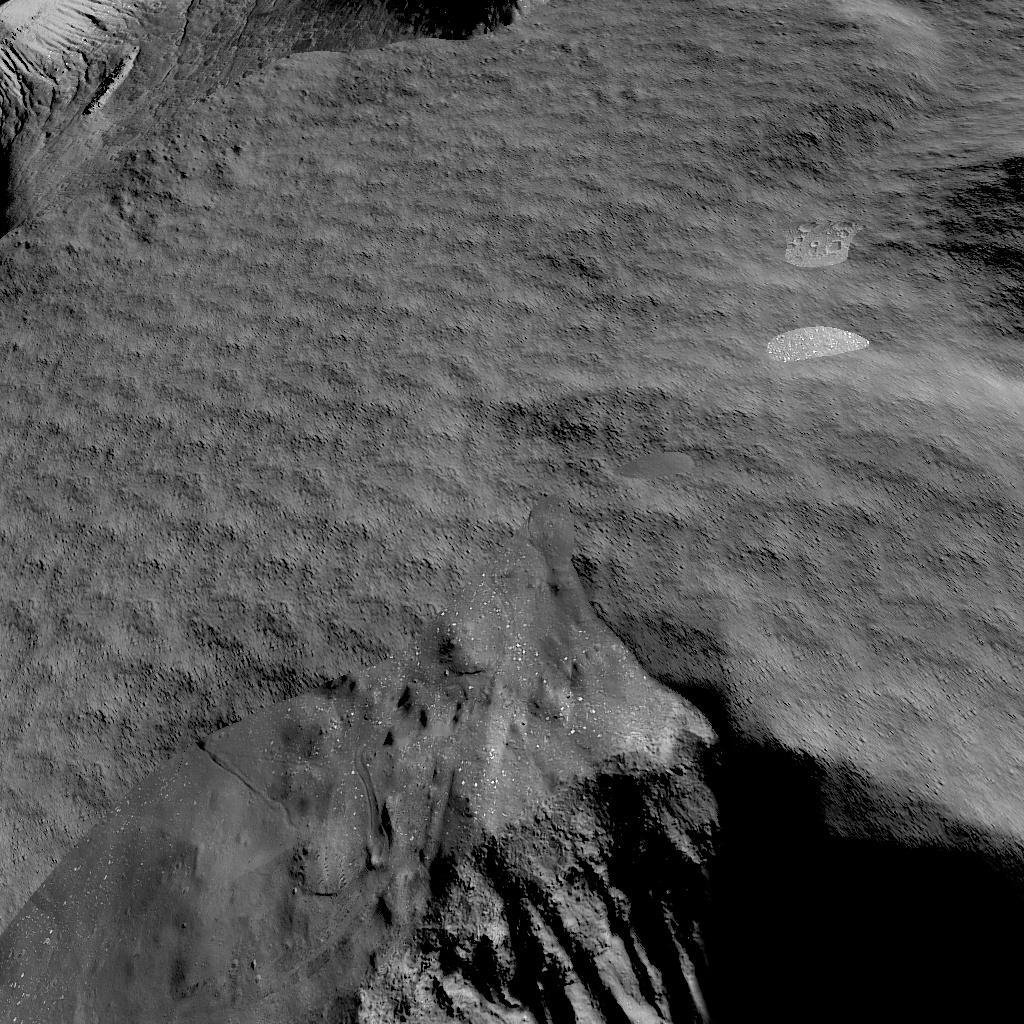Boulders: (0, 0, 550, 235)
Crater: (0, 562, 1024, 1024), (943, 155, 1024, 353)
Plan surface: (0, 252, 927, 550)
